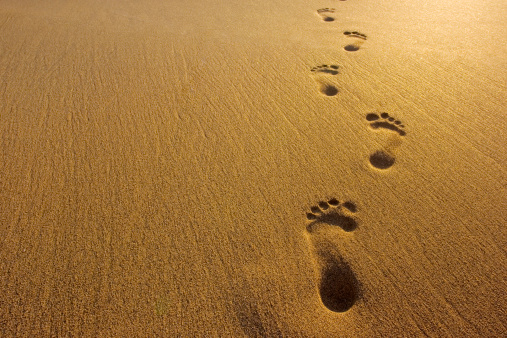human_foot_print: (296, 188, 371, 322), (362, 107, 408, 174), (306, 57, 345, 102), (340, 20, 374, 54), (316, 0, 337, 25)
